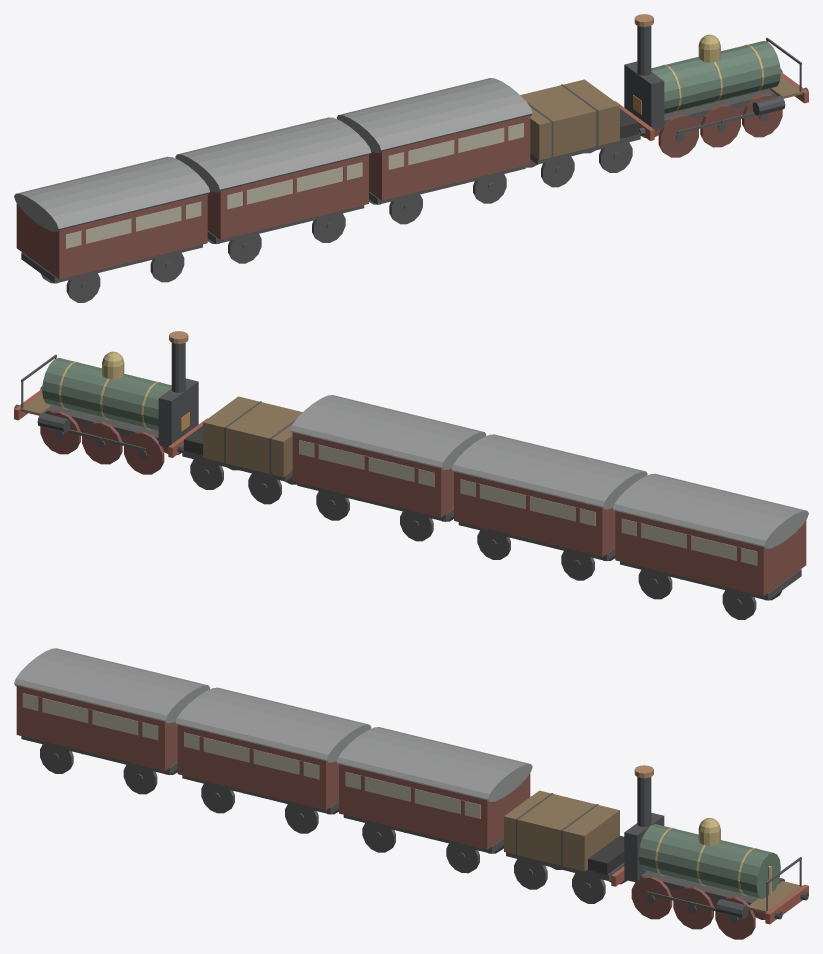
Rendered from llanelly-train.glb.
3 renders of one model, top to bottom at view 1: azimuth 30°, elevation 25°; view 2: azimuth 150°, elevation 25°; view 3: azimuth 330°, elevation 25°, orthographic.
Parts seen in each view (by area): view 1: llanelly-train; view 2: llanelly-train; view 3: llanelly-train.
Part boxes in pixels (<box>): llanelly-train: <box>14,14,808,302</box>; llanelly-train: <box>14,331,808,619</box>; llanelly-train: <box>14,648,808,939</box>.
Bounding box in the file's own units: 23.49 × 3.97 × 2.4.
